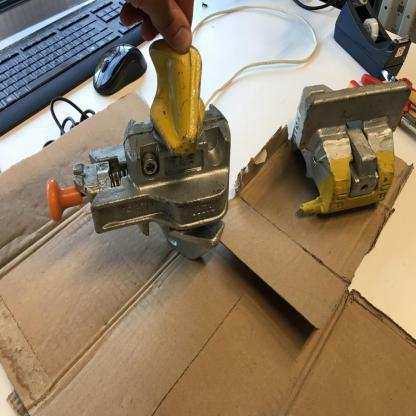Twistlock: (46, 32, 228, 267), (286, 69, 414, 221)
